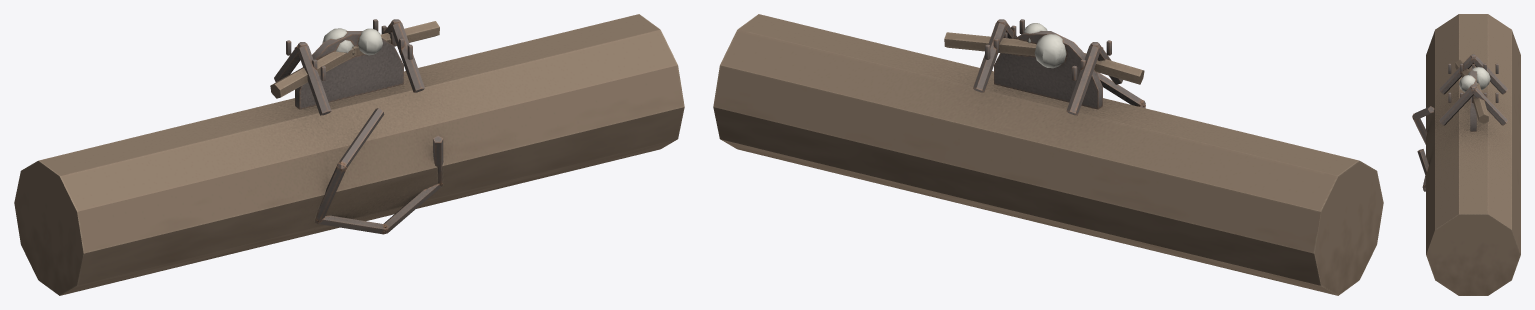
The model's file is hunting_trap.glb.
3 renders of one model, left to right at view 1: azimuth 30°, elevation 25°; view 2: azimuth 150°, elevation 25°; view 3: azimuth 270°, elevation 25°, orthographic. The views are drawn at different scales.
Parts seen in each view (by area): view 1: hunting_trap; view 2: hunting_trap; view 3: hunting_trap.
Boxes of the visible parts, x1,y1,x2,y2 form: hunting_trap: (14,14,684,295); hunting_trap: (713,14,1383,295); hunting_trap: (1412,14,1520,295).
Bounding box in the file's own units: 1.8 × 0.5272 × 0.4132.
Materials: 1 (1 with a texture image).
